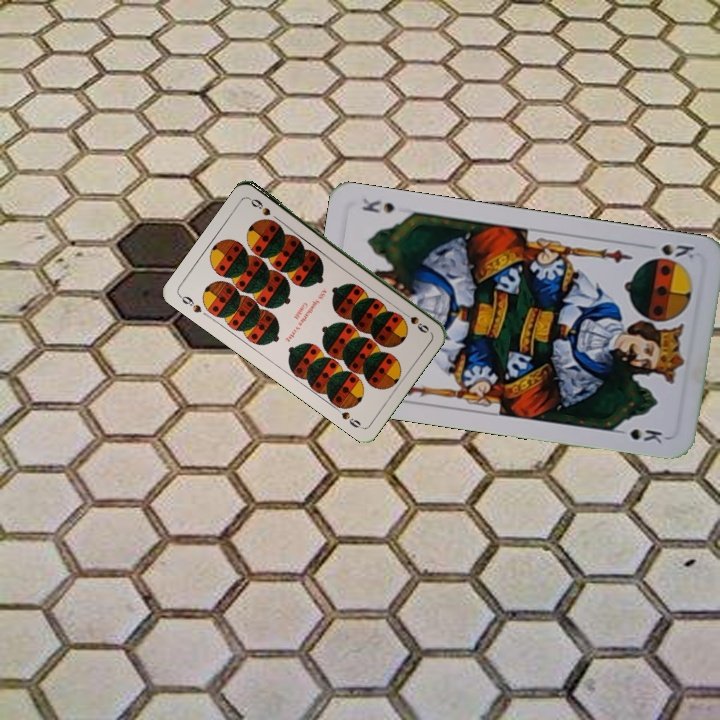S9: (397, 306, 432, 336), (175, 291, 204, 316)
SK: (657, 240, 697, 262)
